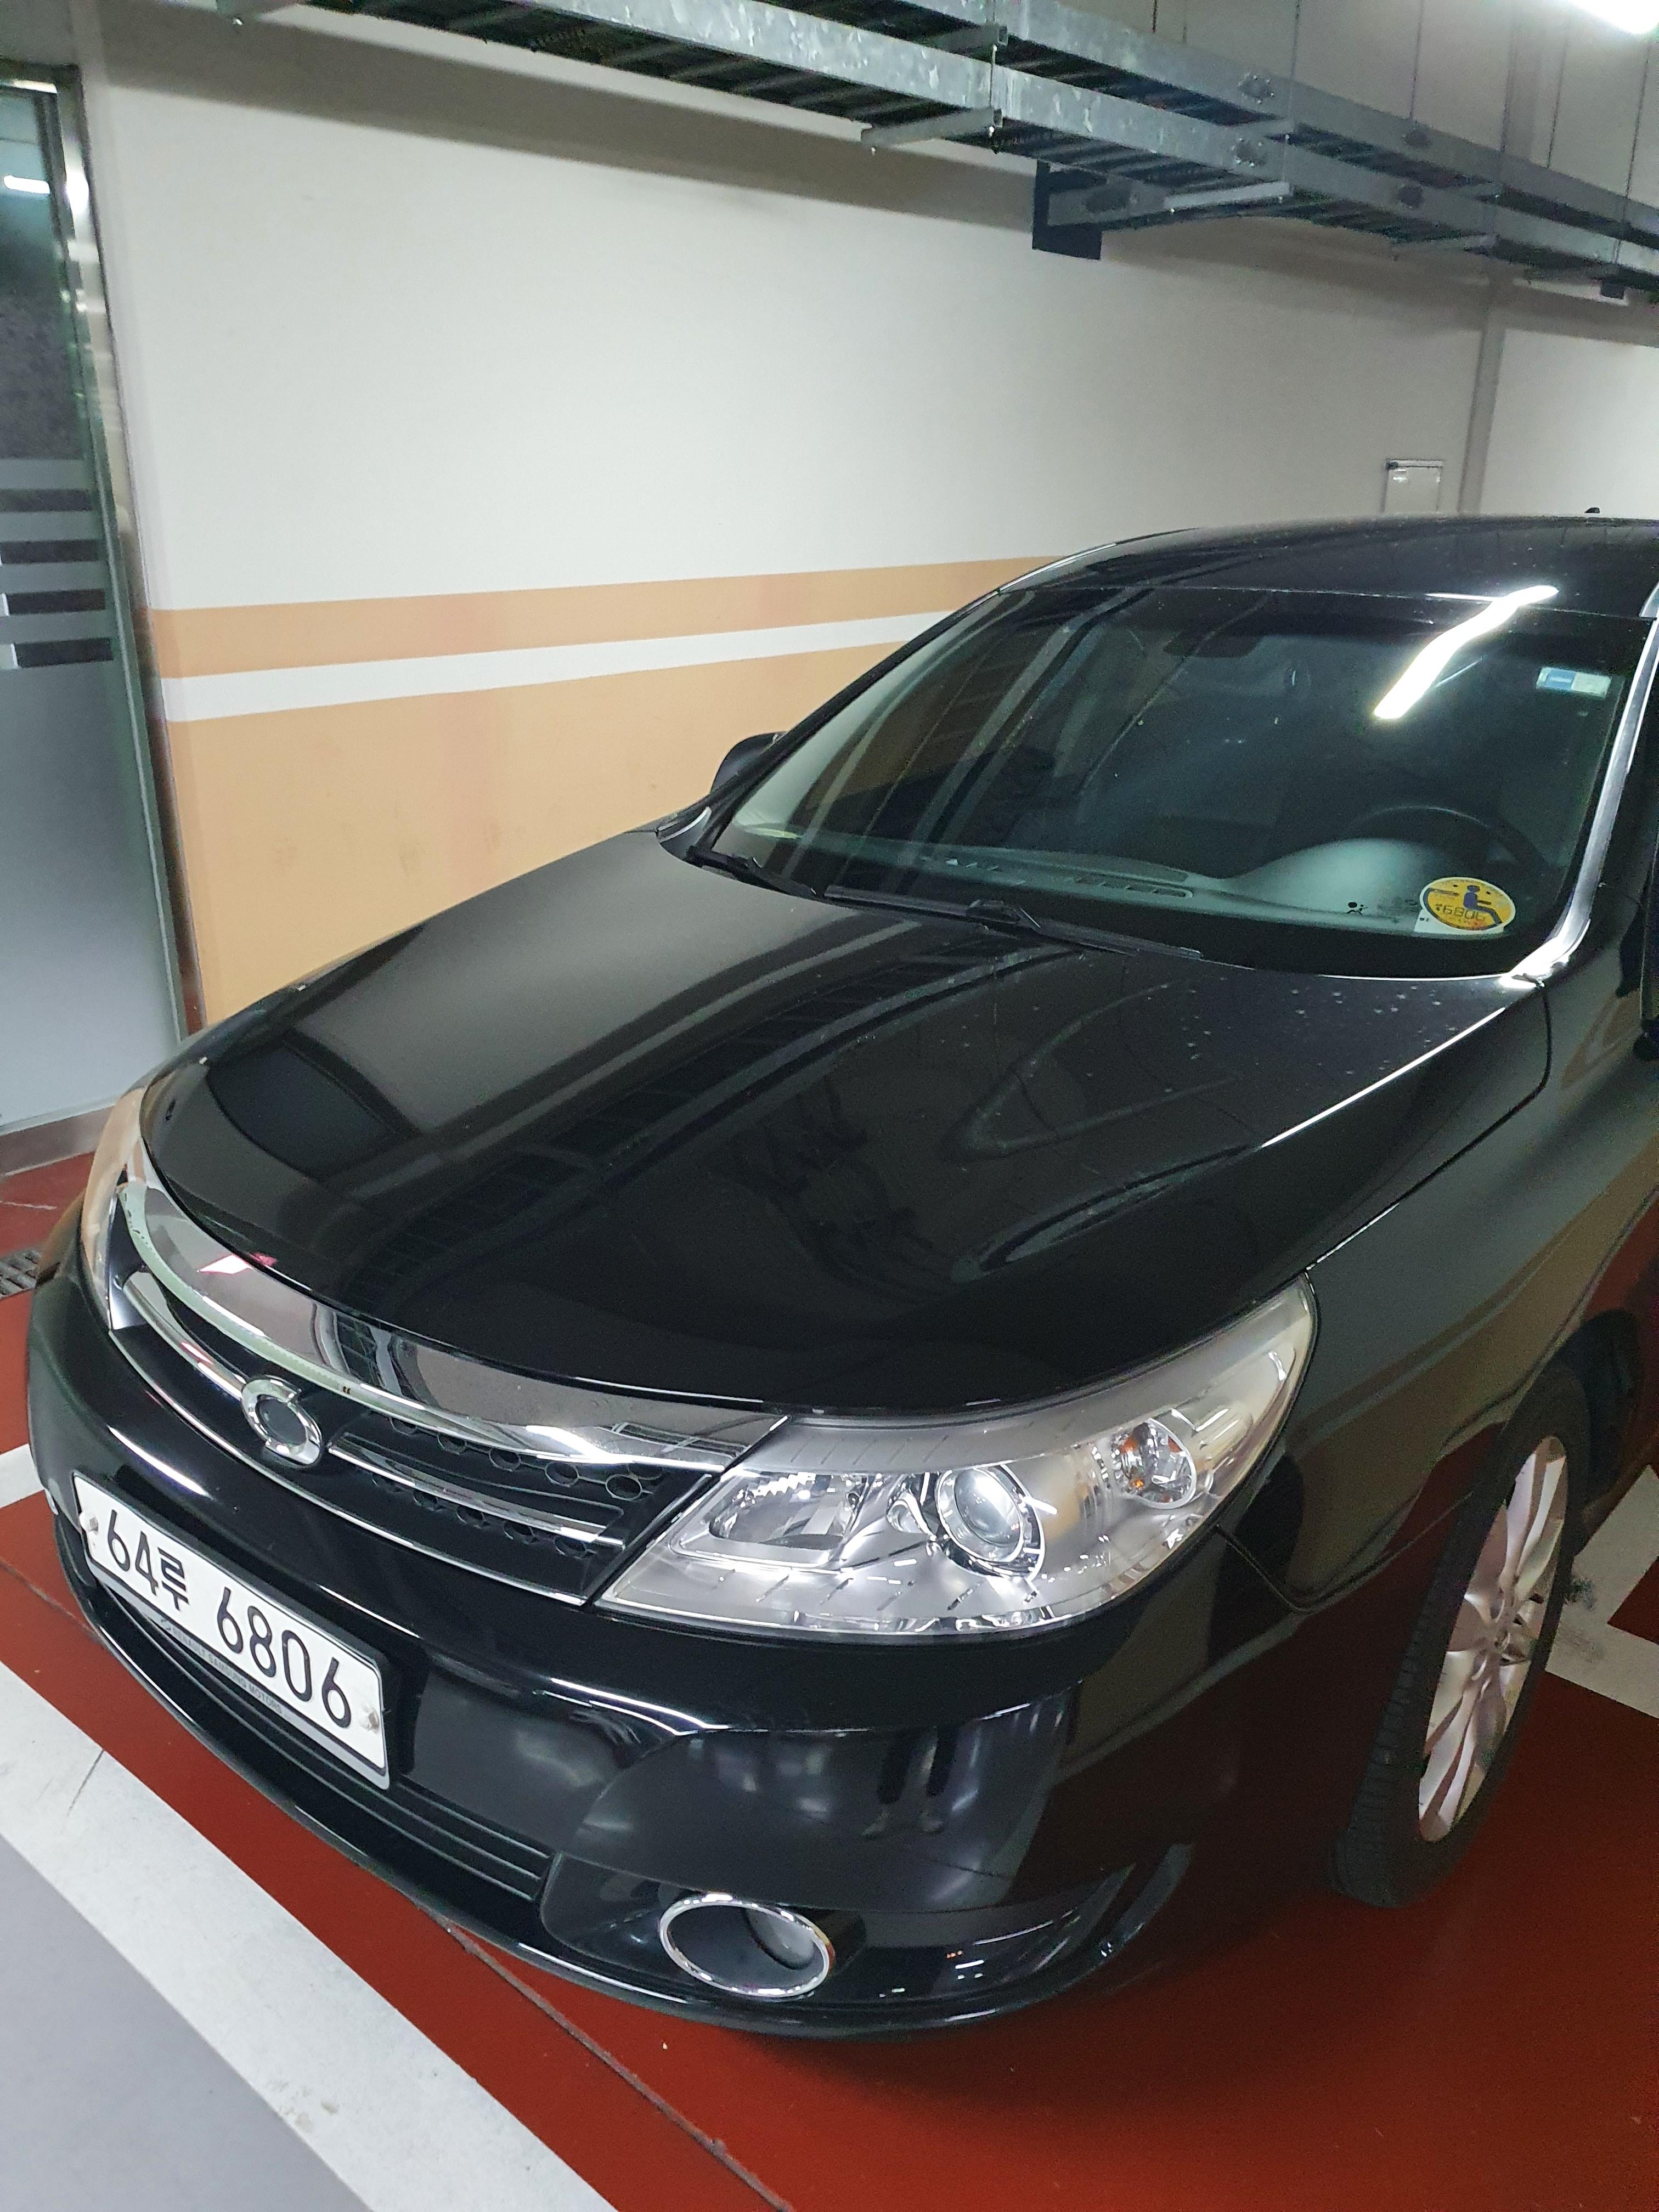disabled_parking: (1408, 871, 1527, 939)
